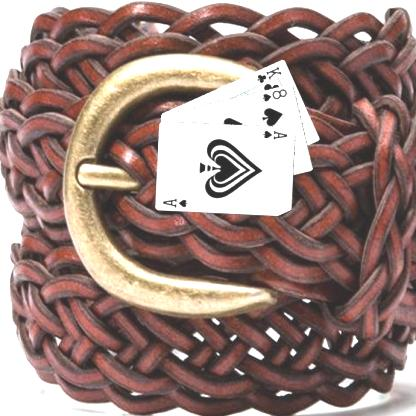8S: (260, 86, 288, 103)
AS: (260, 127, 289, 141), (160, 195, 189, 209)
KC: (254, 63, 283, 89)
